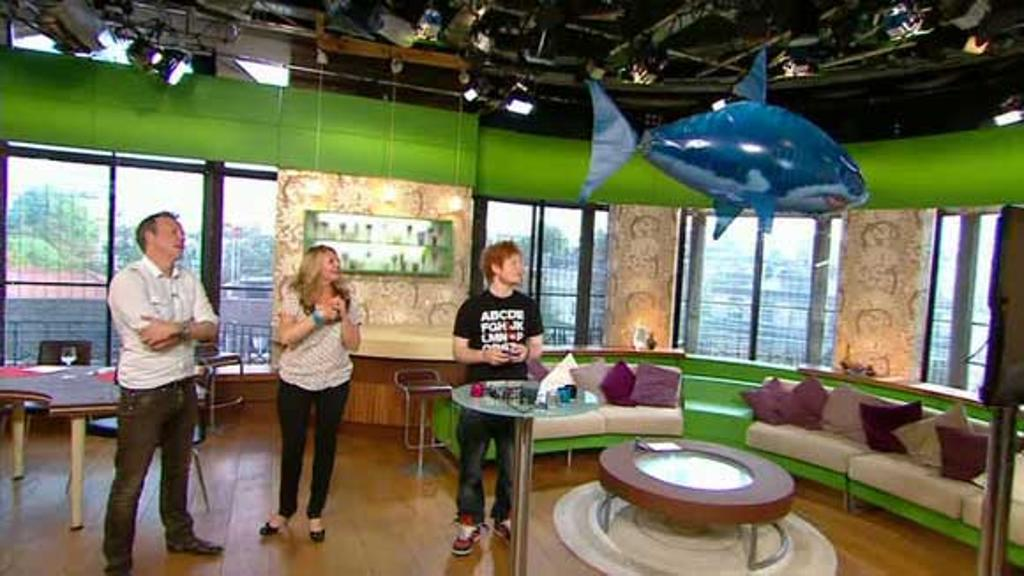face: (153, 216, 185, 258), (500, 253, 523, 283), (321, 251, 341, 280)
